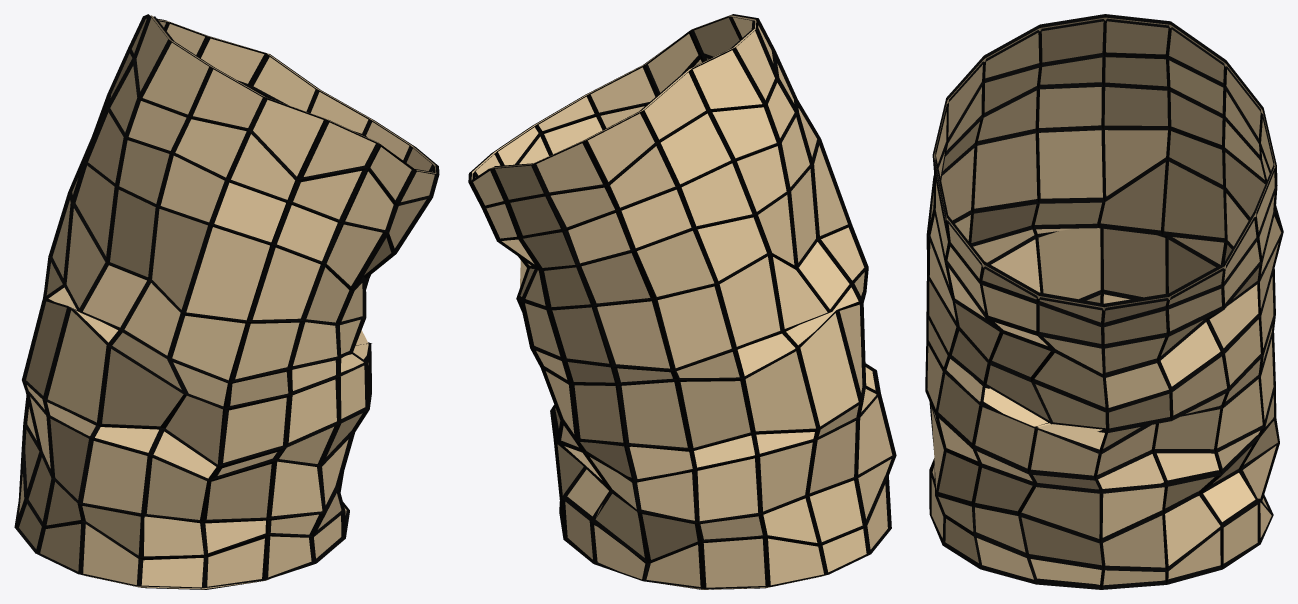
The model's file is 1_5-30-revised.fbx.
The picture shows the model from 3 angles, left to right: view 1: azimuth 30°, elevation 25°; view 2: azimuth 150°, elevation 25°; view 3: azimuth 270°, elevation 25°; orthographic projection. The views are drawn at different scales.
Parts seen in each view (by area): view 1: Cylinder; view 2: Cylinder; view 3: Cylinder.
Part boxes in pixels (box(x1,y1,x2,y2)): Cylinder: box(14, 14, 439, 589); Cylinder: box(468, 14, 896, 589); Cylinder: box(925, 14, 1283, 589).
Size of the model in its own units: 2.66 by 3.22 by 2.1.
